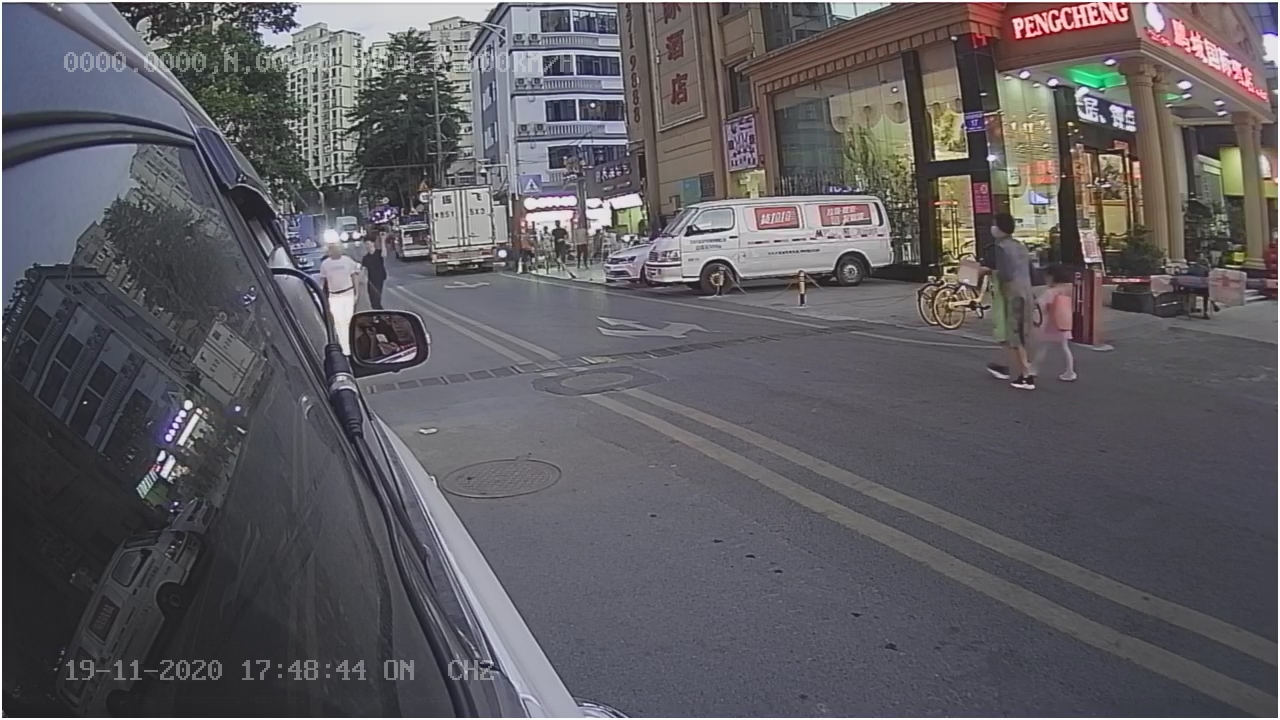person: (977, 209, 1050, 399)
